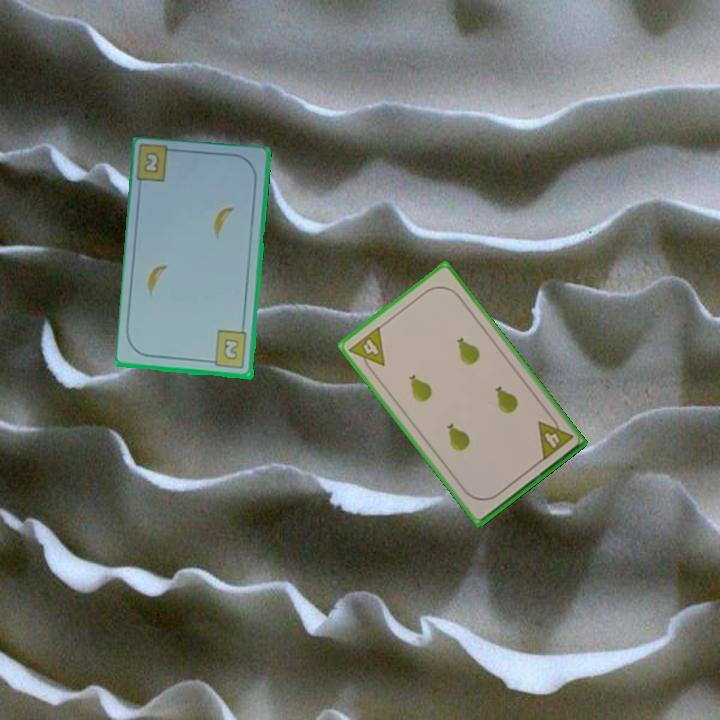2b: (205, 328, 250, 372), (142, 151, 161, 174)
4p: (345, 323, 388, 377), (534, 411, 576, 464)
